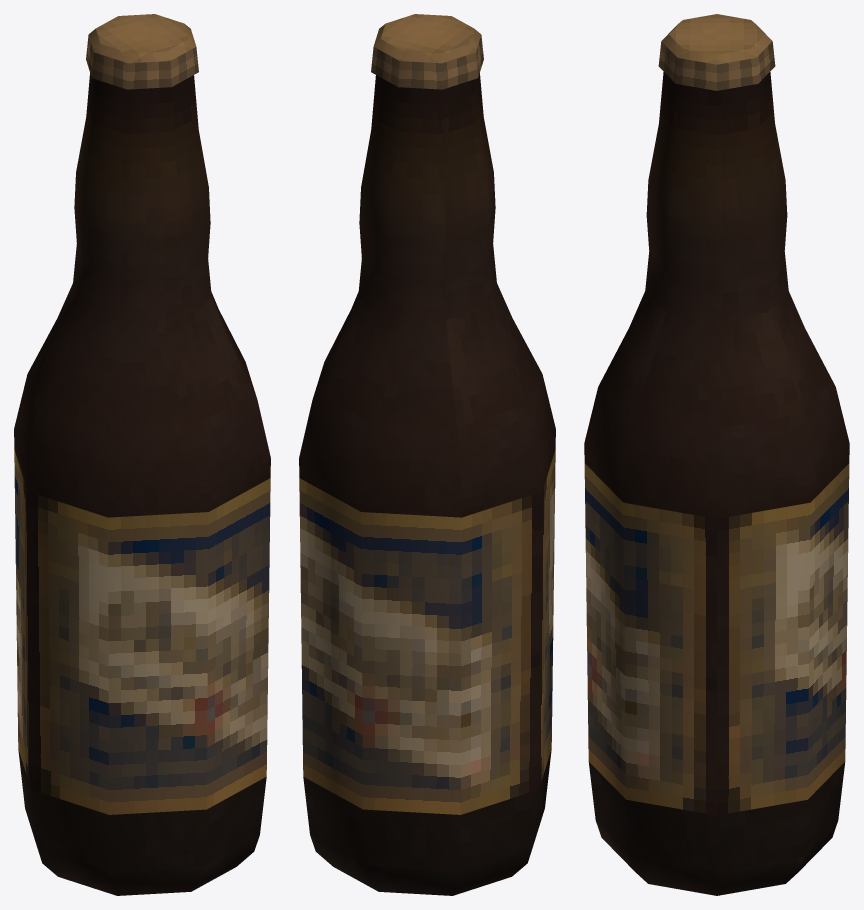
File: glass_bottle_1.glb
3 renders of one model, left to right at view 1: azimuth 30°, elevation 25°; view 2: azimuth 150°, elevation 25°; view 3: azimuth 270°, elevation 25°, orthographic.
Parts seen in each view (by area): view 1: glass_bottle_1; view 2: glass_bottle_1; view 3: glass_bottle_1.
Part boxes in pixels (bbox=[...]): glass_bottle_1: bbox=[14, 14, 270, 895]; glass_bottle_1: bbox=[299, 14, 555, 895]; glass_bottle_1: bbox=[584, 14, 849, 895].
Bounding box in the file's own units: 0.1037 × 0.3538 × 0.1037.
1 material, 1 textured.
